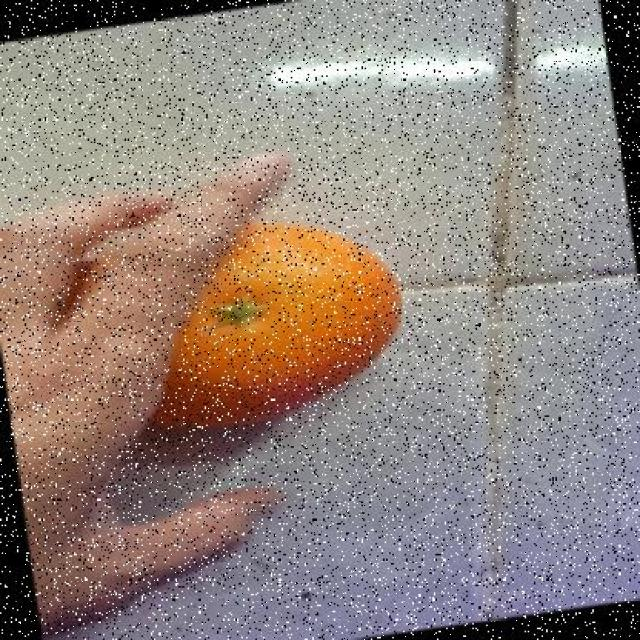Orange: (157, 218, 401, 431)
